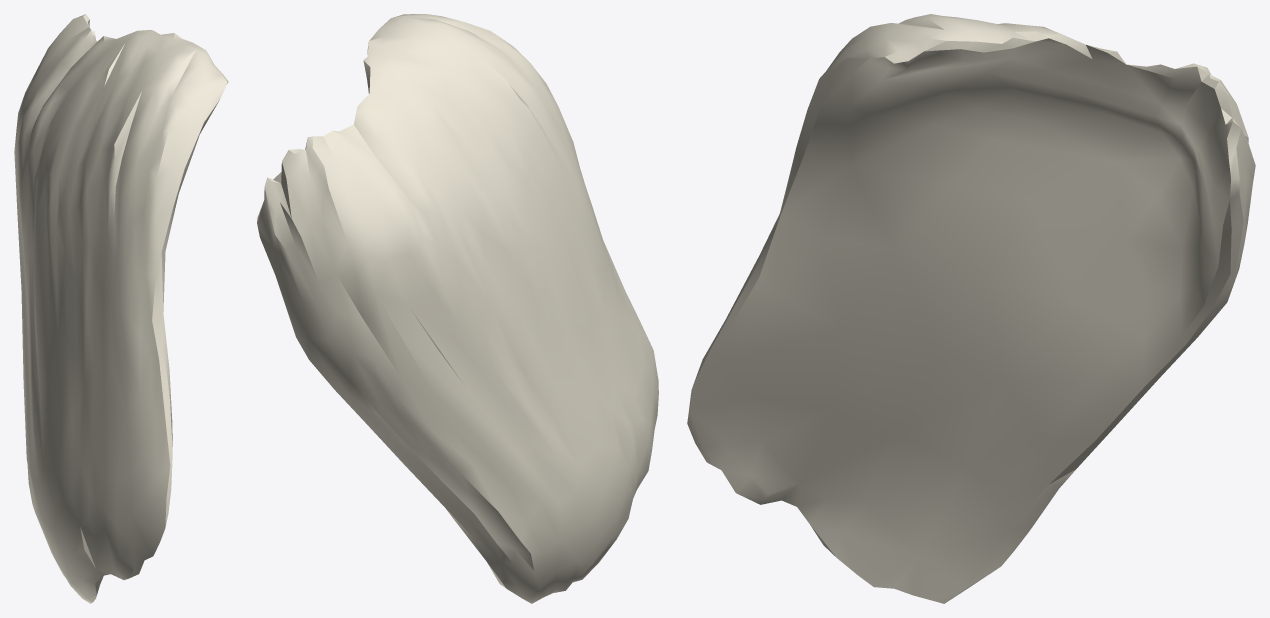
Rendered from fma326801-r_mm1488m.glb.
3 renders of one model, left to right at view 1: azimuth 30°, elevation 25°; view 2: azimuth 150°, elevation 25°; view 3: azimuth 270°, elevation 25°, orthographic. The views are drawn at different scales.
Visible parts, largest first — view 1: FMA326801-R_MM1488M; view 2: FMA326801-R_MM1488M; view 3: FMA326801-R_MM1488M.
Part boxes in pixels (x1,y1,x2,y2): FMA326801-R_MM1488M: (14,14,228,603); FMA326801-R_MM1488M: (257,14,658,603); FMA326801-R_MM1488M: (687,14,1255,603).
Size of the model in its own units: 0.00633 by 0.0168 by 0.0134.
